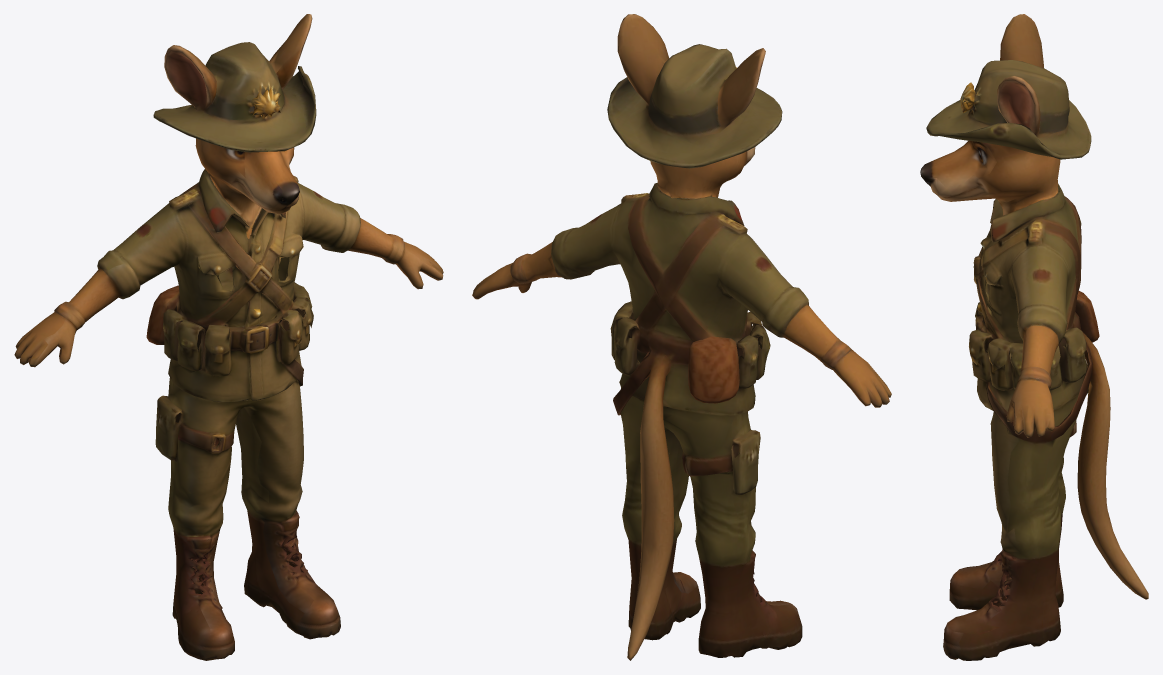
File: KangaV2-mixamo.fbx
The picture shows the model from 3 angles, left to right: view 1: azimuth 30°, elevation 25°; view 2: azimuth 150°, elevation 25°; view 3: azimuth 270°, elevation 25°; orthographic projection. The views are drawn at different scales.
Parts seen in each view (by area): view 1: Mesh_0.001; view 2: Mesh_0.001; view 3: Mesh_0.001.
Boxes of the visible parts, left/top/right/bottom form: Mesh_0.001: left=14, top=14, right=443, bottom=660; Mesh_0.001: left=472, top=14, right=891, bottom=660; Mesh_0.001: left=920, top=14, right=1148, bottom=660.
Bounding box in the file's own units: 64 × 88.35 × 31.24.
1 material, 1 textured.
